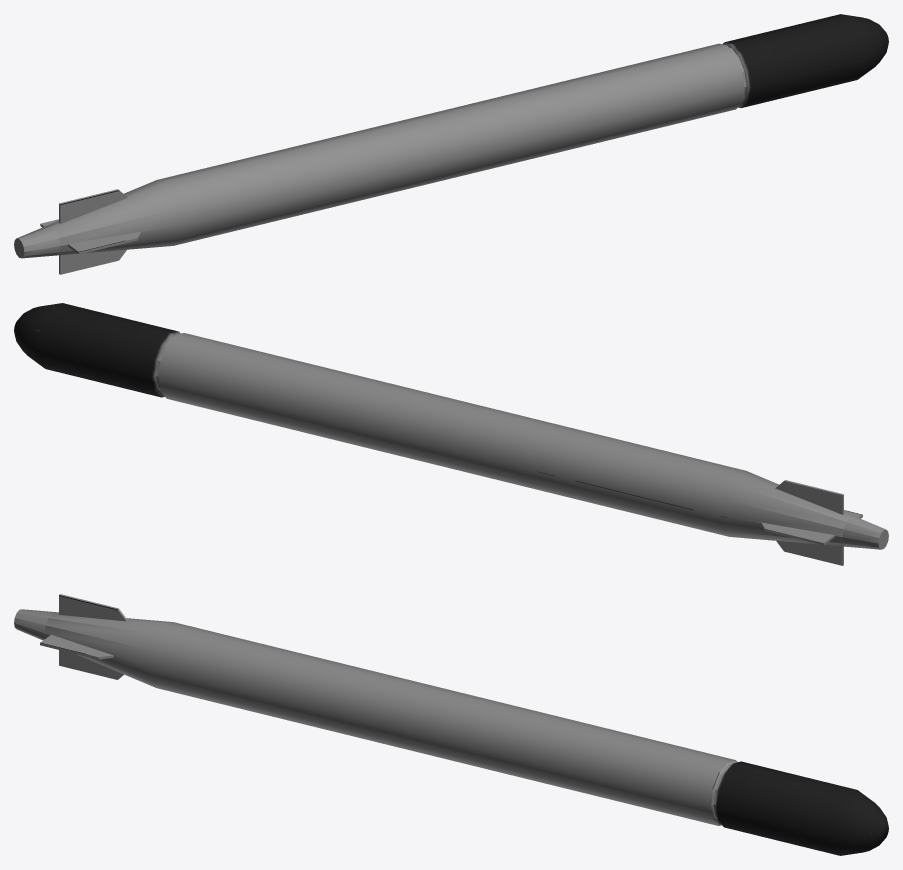
Rendered from Torpedo.obj.
3 renders of one model, top to bottom at view 1: azimuth 30°, elevation 25°; view 2: azimuth 150°, elevation 25°; view 3: azimuth 330°, elevation 25°, orthographic.
Parts seen in each view (by area): view 1: Cube.008_Cube.007; view 2: Cube.008_Cube.007; view 3: Cube.008_Cube.007.
Boxes of the visible parts, x1,y1,x2,y2 form: Cube.008_Cube.007: (14,14,888,274); Cube.008_Cube.007: (14,303,888,565); Cube.008_Cube.007: (14,594,888,855).
Size of the model in its own units: 0.7433 by 0.0579 by 0.0581.
1 material, 1 textured.
